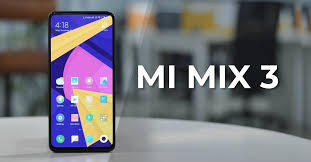mi: (47, 7, 119, 154)
